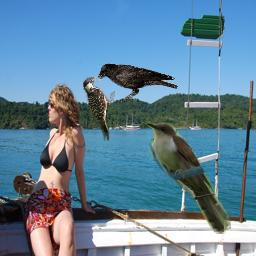Crow: (96, 63, 178, 103)
Cuckoo: (144, 120, 231, 234)
Woodpecker: (83, 77, 115, 141)
